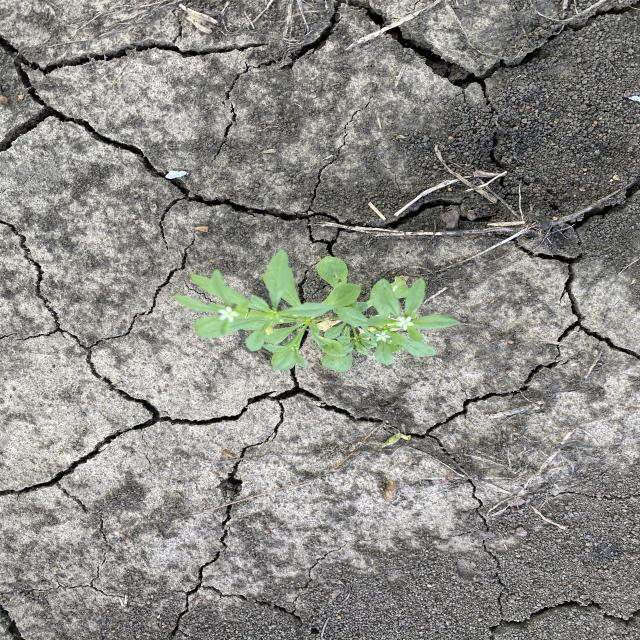Carpetweed: (173, 249, 466, 374)
